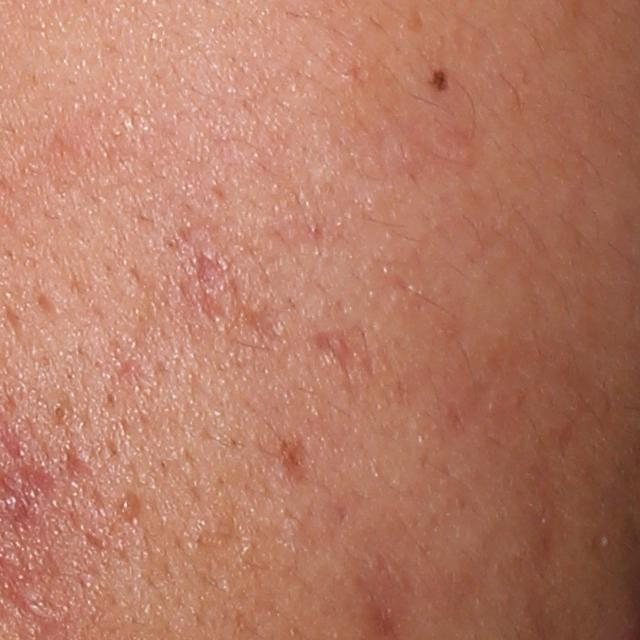atrophic_scar: (182, 231, 298, 347), (313, 324, 440, 426), (61, 440, 93, 483), (82, 526, 112, 557), (2, 302, 27, 339), (34, 289, 63, 318)
comedo: (47, 403, 65, 426)
nevus: (427, 67, 449, 95)
